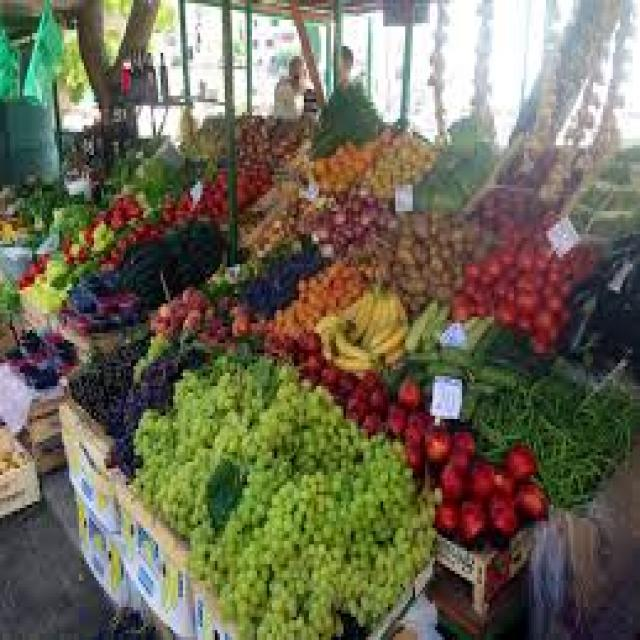organic waste: (257, 472, 371, 580), (173, 353, 257, 455), (346, 439, 432, 534), (346, 524, 430, 617), (541, 403, 618, 498), (234, 570, 338, 636), (232, 356, 294, 459), (188, 534, 259, 617), (309, 73, 378, 155), (129, 459, 200, 521), (118, 238, 176, 310), (163, 218, 222, 284), (66, 356, 128, 416), (398, 241, 460, 300), (561, 386, 637, 429), (351, 284, 408, 340), (235, 116, 304, 162), (202, 455, 245, 528), (366, 211, 408, 284), (15, 182, 79, 228), (484, 389, 539, 442), (376, 126, 428, 182), (600, 287, 638, 363), (445, 102, 494, 155), (438, 142, 494, 188), (128, 353, 173, 406), (104, 409, 138, 478), (141, 152, 185, 204), (472, 392, 504, 462), (564, 290, 596, 360), (311, 261, 366, 300), (134, 402, 176, 452), (131, 333, 170, 386), (391, 215, 462, 244), (415, 168, 462, 211), (529, 360, 563, 412), (232, 274, 277, 313), (457, 494, 487, 548), (185, 112, 220, 158), (331, 320, 371, 360), (460, 211, 494, 257), (593, 244, 638, 277), (294, 274, 324, 323), (59, 254, 119, 277), (264, 300, 314, 327), (274, 244, 319, 274), (479, 346, 544, 366), (512, 482, 548, 518), (52, 201, 91, 234), (438, 455, 470, 495), (262, 261, 294, 300), (487, 495, 516, 538), (163, 340, 205, 369), (504, 442, 534, 482), (153, 290, 183, 330), (311, 300, 361, 324), (563, 267, 603, 297), (106, 330, 151, 356), (242, 162, 272, 201), (420, 422, 450, 459), (477, 360, 519, 386), (430, 495, 460, 531), (405, 297, 435, 333), (20, 360, 57, 389), (561, 432, 637, 446), (198, 310, 230, 343), (539, 284, 566, 323), (260, 215, 296, 244), (440, 343, 477, 370), (578, 326, 608, 359), (165, 508, 202, 534), (544, 247, 568, 287), (307, 205, 331, 244), (467, 458, 492, 495), (334, 346, 373, 369), (79, 268, 119, 290), (0, 270, 20, 314), (0, 426, 22, 465), (264, 327, 296, 353), (89, 214, 111, 251), (341, 389, 371, 416), (514, 284, 539, 316), (588, 214, 628, 234), (475, 316, 499, 349), (40, 254, 66, 284), (422, 363, 470, 379), (422, 303, 450, 330), (64, 224, 89, 254), (383, 402, 405, 436), (371, 324, 405, 346), (393, 376, 420, 403), (465, 310, 489, 340), (403, 406, 430, 432), (460, 382, 480, 416), (331, 369, 356, 396), (237, 244, 262, 271), (111, 287, 136, 313), (529, 135, 553, 162), (600, 188, 628, 211), (190, 182, 212, 211), (205, 171, 222, 208), (608, 231, 635, 254), (32, 284, 59, 307), (514, 231, 531, 267), (450, 287, 470, 317), (227, 300, 247, 330), (156, 188, 176, 218), (118, 155, 138, 185), (452, 426, 472, 455), (143, 208, 163, 237), (5, 343, 30, 366), (462, 277, 487, 300), (326, 165, 351, 188), (497, 162, 519, 188), (279, 178, 294, 215), (22, 248, 47, 270), (519, 162, 544, 184), (294, 353, 321, 373), (598, 162, 625, 182), (175, 188, 193, 218), (346, 145, 366, 172), (536, 304, 554, 333), (380, 340, 400, 366), (494, 320, 514, 346), (309, 152, 329, 178), (403, 340, 435, 356), (536, 208, 558, 231), (17, 280, 42, 300), (489, 297, 514, 317), (529, 238, 546, 267), (489, 465, 507, 492), (314, 363, 338, 383), (492, 270, 512, 294), (69, 284, 89, 307), (489, 238, 512, 258), (124, 218, 144, 241), (346, 211, 366, 234), (403, 435, 420, 462), (514, 267, 541, 284), (366, 386, 388, 406), (183, 284, 205, 304), (512, 188, 534, 208), (360, 191, 376, 218), (106, 195, 119, 228), (496, 188, 512, 214), (94, 290, 111, 314), (0, 214, 15, 241), (460, 310, 480, 330), (472, 297, 492, 317), (480, 254, 500, 274), (494, 218, 514, 238), (344, 188, 364, 208), (299, 330, 316, 353), (212, 290, 235, 307), (356, 369, 378, 386), (12, 267, 34, 284), (578, 188, 600, 205), (180, 307, 202, 323), (296, 192, 312, 214), (514, 326, 531, 346), (121, 194, 138, 214), (234, 175, 244, 208), (570, 208, 586, 228), (364, 412, 386, 426), (333, 221, 351, 238), (460, 257, 477, 274), (59, 307, 77, 323), (72, 307, 84, 330), (89, 316, 114, 326), (467, 211, 492, 221), (482, 191, 494, 211), (329, 148, 341, 168), (341, 139, 356, 155), (514, 221, 536, 231), (328, 188, 344, 201), (502, 257, 514, 274), (477, 264, 489, 277), (52, 340, 67, 350), (20, 330, 32, 340), (250, 320, 262, 330), (334, 208, 344, 218), (237, 158, 245, 168)
